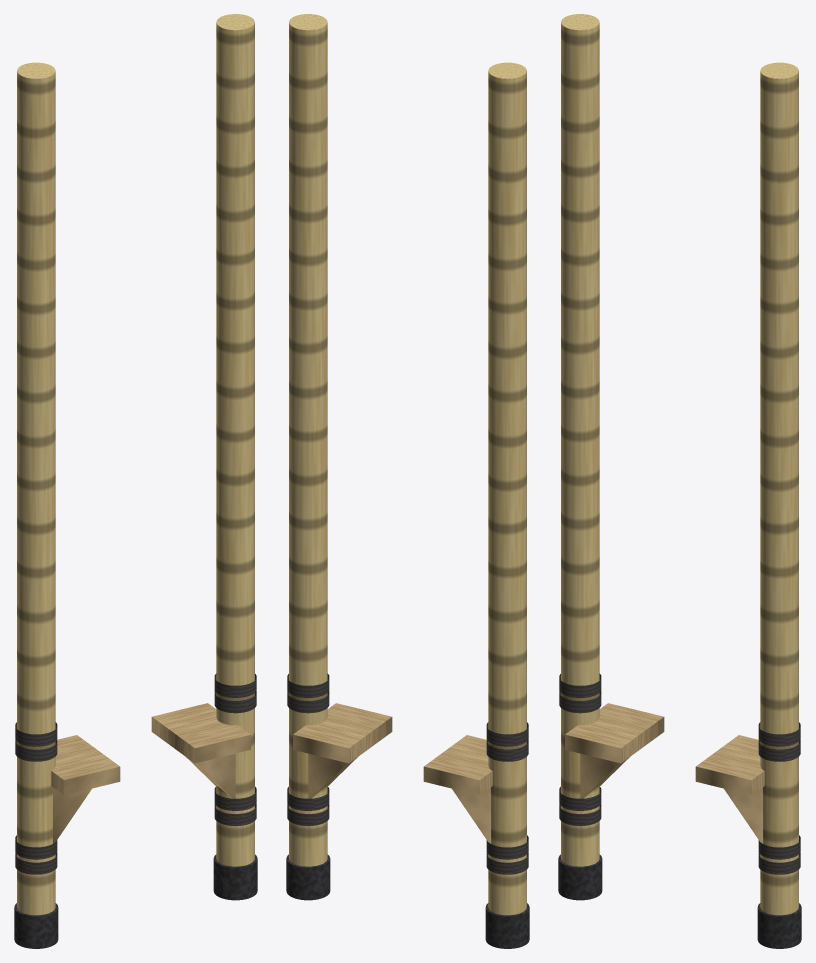
File: Egrang_Lingkaran.fbx
3 renders of one model, left to right at view 1: azimuth 30°, elevation 25°; view 2: azimuth 150°, elevation 25°; view 3: azimuth 330°, elevation 25°, orthographic.
Parts seen in each view (by area): view 1: Egrang_Lingkaran_L, Egrang_Lingkaran_R; view 2: Egrang_Lingkaran_L, Egrang_Lingkaran_R; view 3: Egrang_Lingkaran_R, Egrang_Lingkaran_L.
Boxes of the visible parts, box(x1,y1,x2,y2) form: Egrang_Lingkaran_L: box(14, 62, 120, 948); Egrang_Lingkaran_R: box(151, 14, 257, 900); Egrang_Lingkaran_L: box(423, 62, 529, 948); Egrang_Lingkaran_R: box(286, 14, 392, 900); Egrang_Lingkaran_R: box(695, 62, 801, 948); Egrang_Lingkaran_L: box(558, 14, 664, 900).
Size of the model in its own units: 57.13 by 200 by 18.
Materials: 1 (1 with a texture image).
